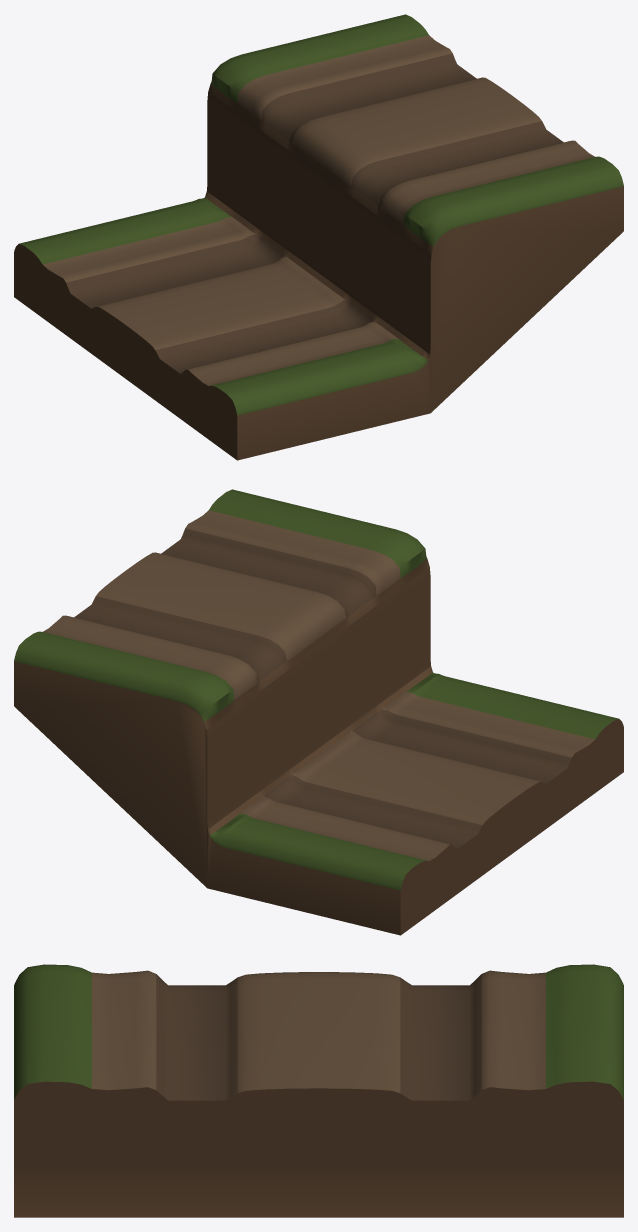
3 renders of one model, top to bottom at view 1: azimuth 30°, elevation 25°; view 2: azimuth 150°, elevation 25°; view 3: azimuth 270°, elevation 25°, orthographic. The views are drawn at different scales.
Visible parts, largest first — view 1: k3o; view 2: k3o; view 3: k3o.
Part boxes in pixels (<box>): k3o: <box>14,14,623,460</box>; k3o: <box>14,489,623,935</box>; k3o: <box>14,964,623,1217</box>.
Size of the model in its own units: 9 by 4.31 by 9.
